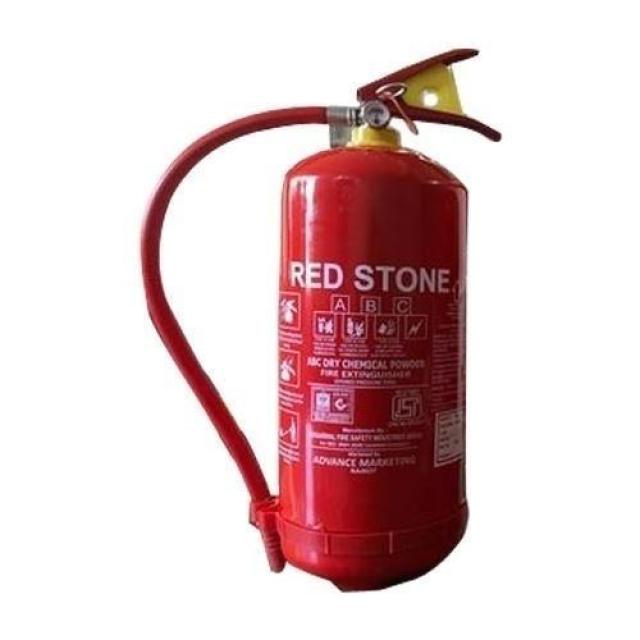fire_extinguisher: (130, 42, 506, 592)
